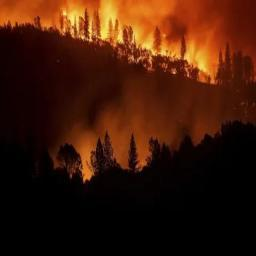Large fire: (55, 3, 217, 81)
Low smoke: (55, 103, 223, 180)
